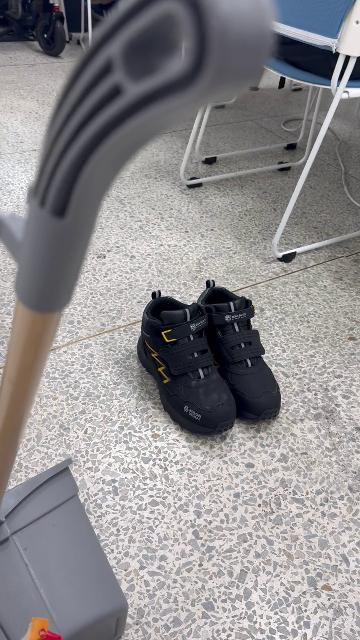shoe_worn: (133, 288, 235, 437), (194, 278, 282, 421)
